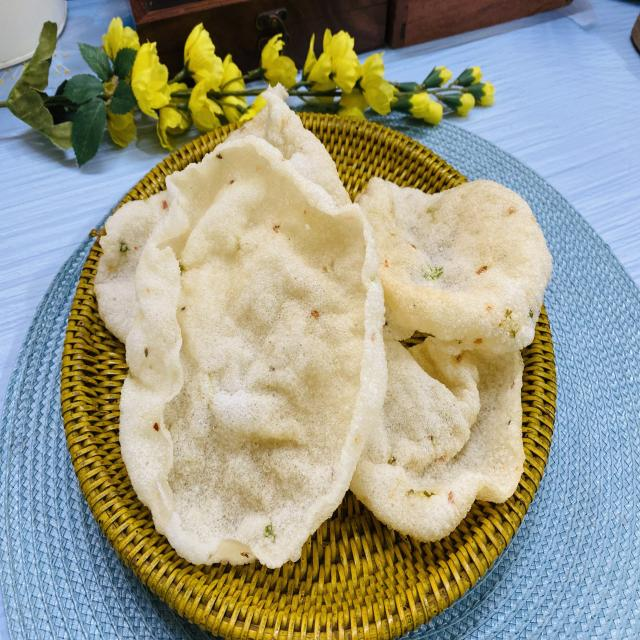papad: (124, 150, 389, 582), (349, 175, 547, 546), (90, 86, 338, 349)
